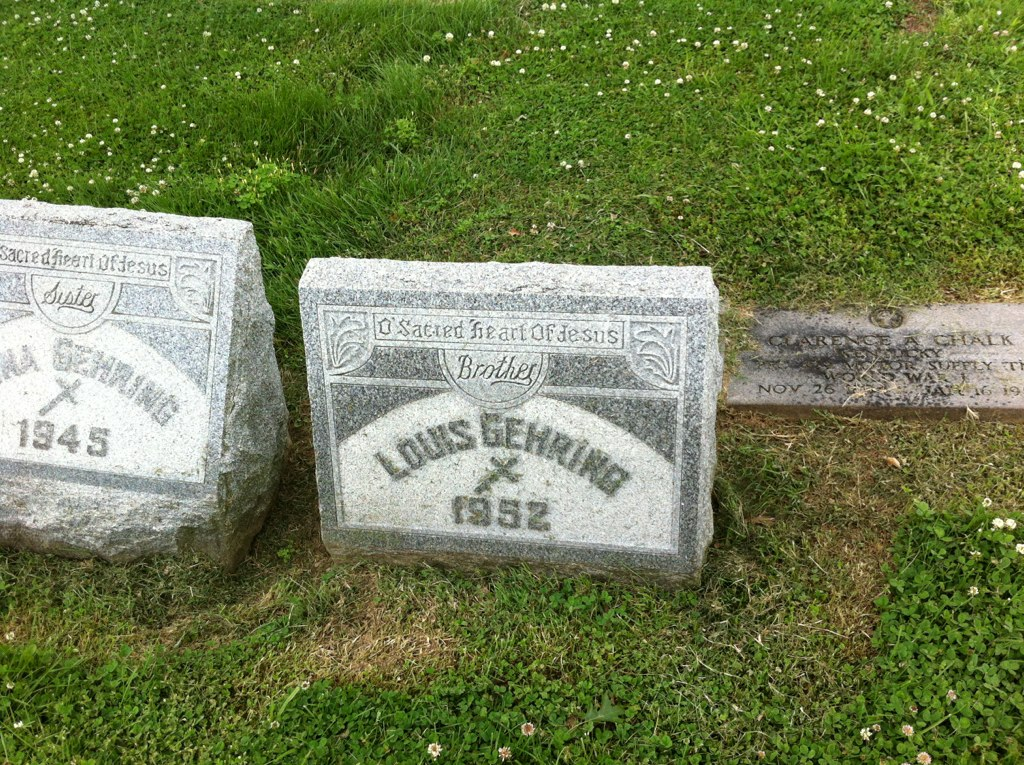slant: (294, 255, 723, 587)
